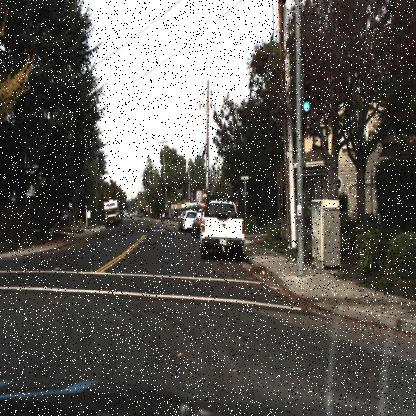car: (197, 192, 250, 264), (183, 204, 196, 234)
trafficLight-Green: (300, 66, 310, 119), (301, 88, 311, 119)
truck: (101, 198, 122, 233)
